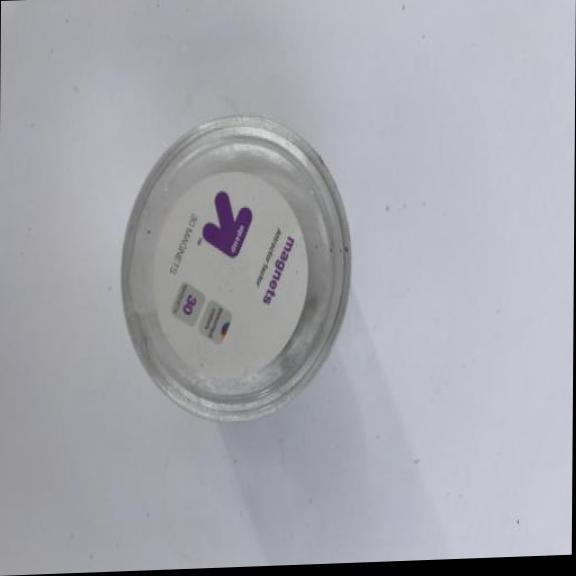Plastik: (100, 96, 355, 432)
